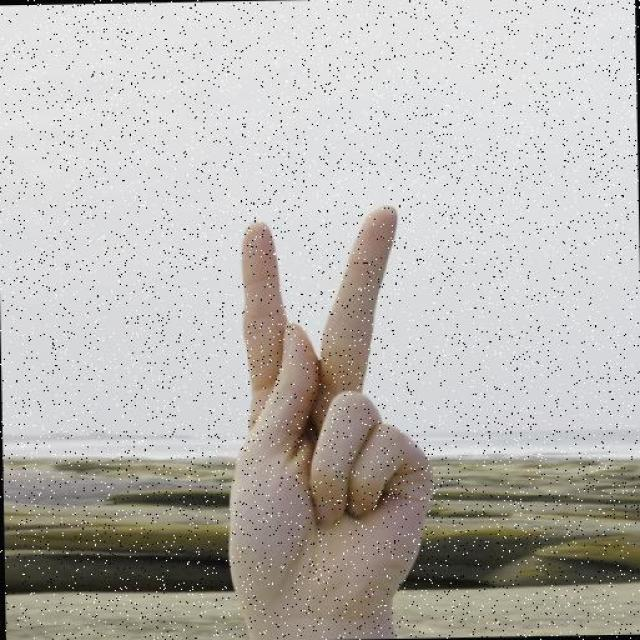K: (156, 179, 453, 640)
